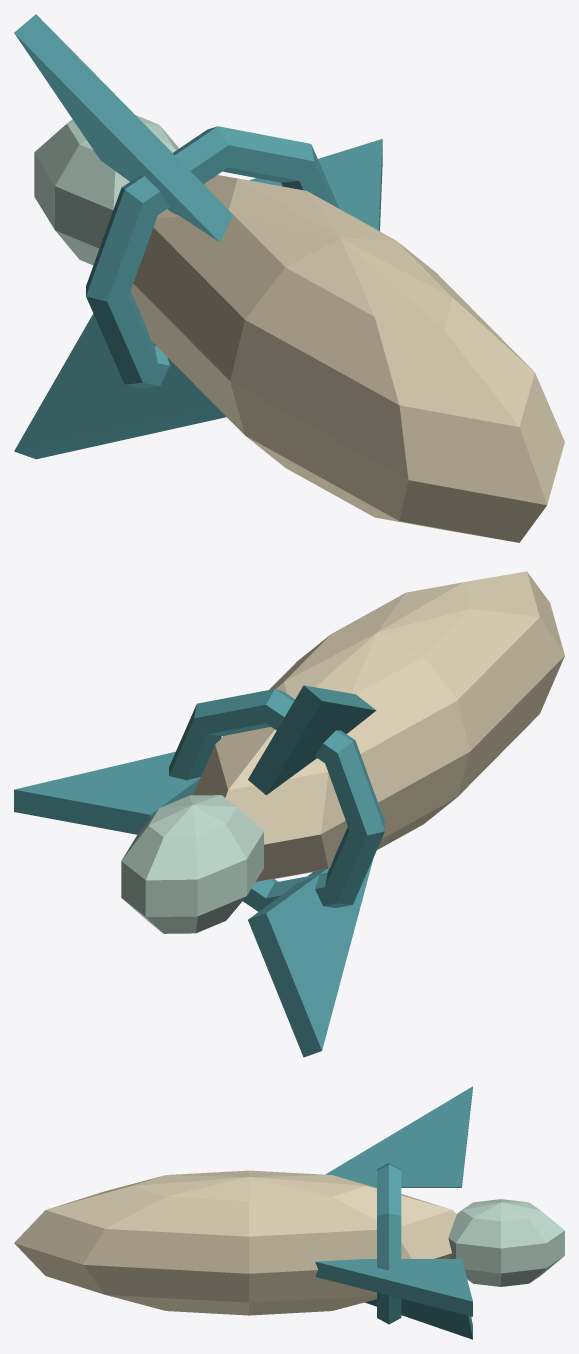
Rendered from marine-projectile.glb.
3 renders of one model, top to bottom at view 1: azimuth 30°, elevation 25°; view 2: azimuth 150°, elevation 25°; view 3: azimuth 270°, elevation 25°, orthographic. The views are drawn at different scales.
Parts seen in each view (by area): view 1: marine-projectile; view 2: marine-projectile; view 3: marine-projectile.
Part boxes in pixels (box(x1,y1,x2,y2)): marine-projectile: box(14, 14, 564, 542); marine-projectile: box(14, 571, 564, 1057); marine-projectile: box(14, 1086, 564, 1339).
Size of the model in its own units: 0.435 by 0.5 by 0.9841.
